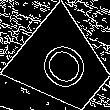O_SE: (31, 32, 96, 98)
